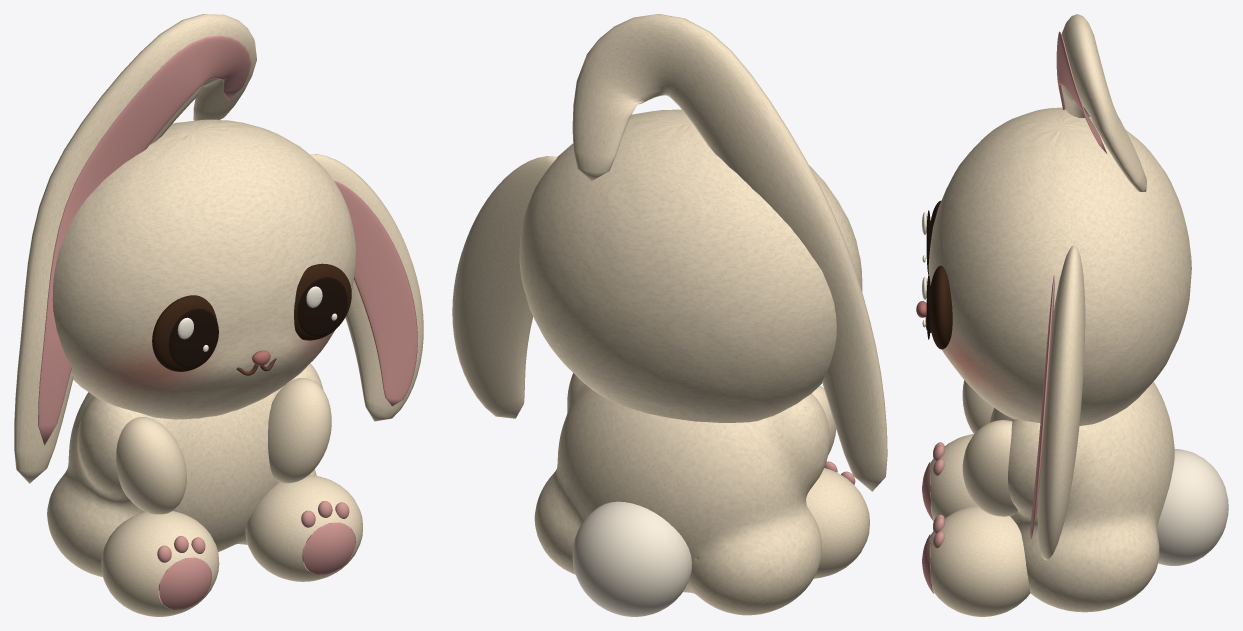
The model's file is companion.glb.
3 views of the same model, side by side, from view 1: azimuth 30°, elevation 25°; view 2: azimuth 150°, elevation 25°; view 3: azimuth 270°, elevation 25° (orthographic). The views are drawn at different scales.
Visible parts, largest first — view 1: Moku; view 2: Moku; view 3: Moku.
Boxes of the visible parts, box(x1,y1,x2,y2) form: Moku: box(14, 14, 423, 616); Moku: box(452, 14, 887, 616); Moku: box(916, 14, 1228, 616).
Bounding box in the file's own units: 0.8517 × 1.07 × 0.547.
13 materials, 4 textured.
